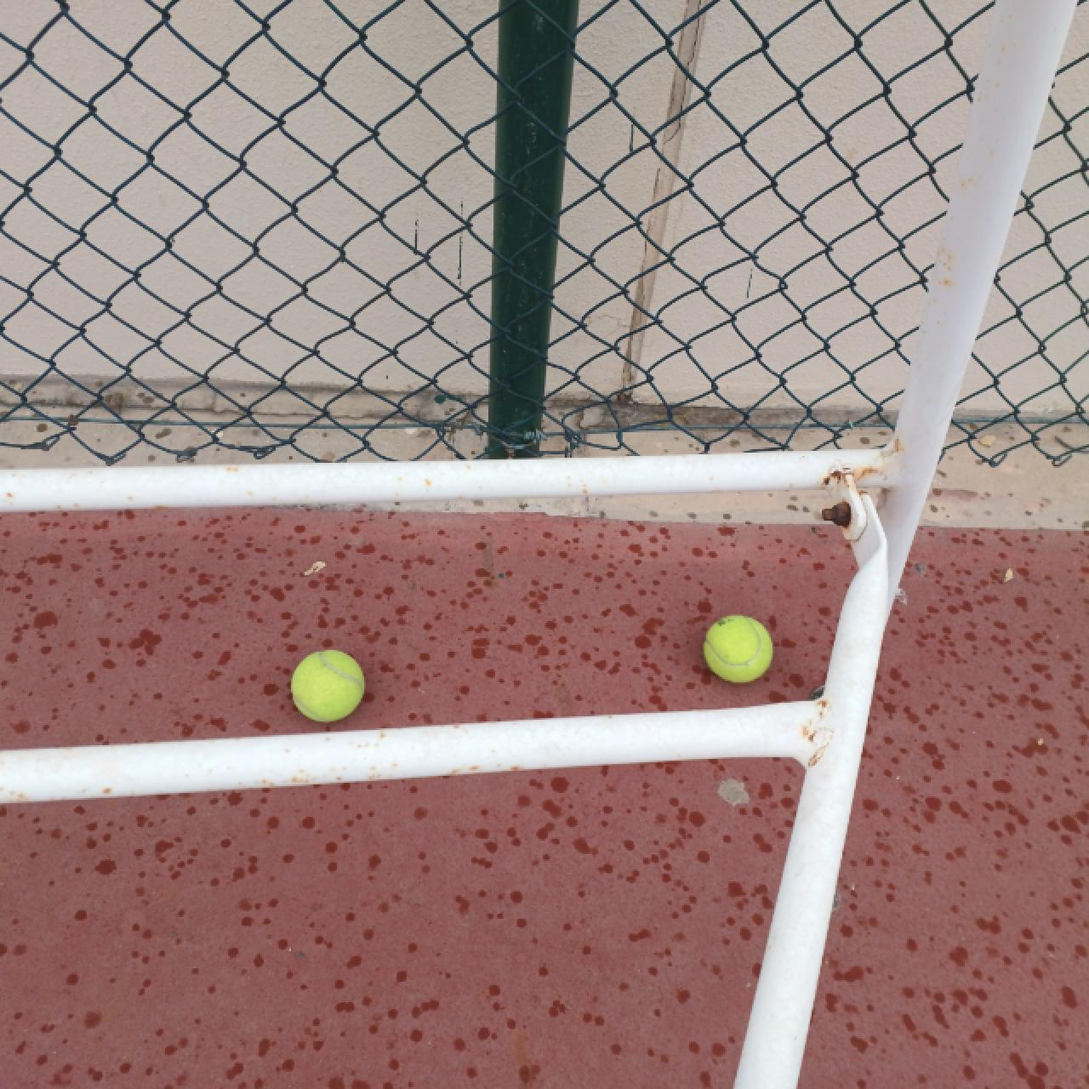tennis-ball: (289, 648, 367, 723), (701, 614, 774, 684)
